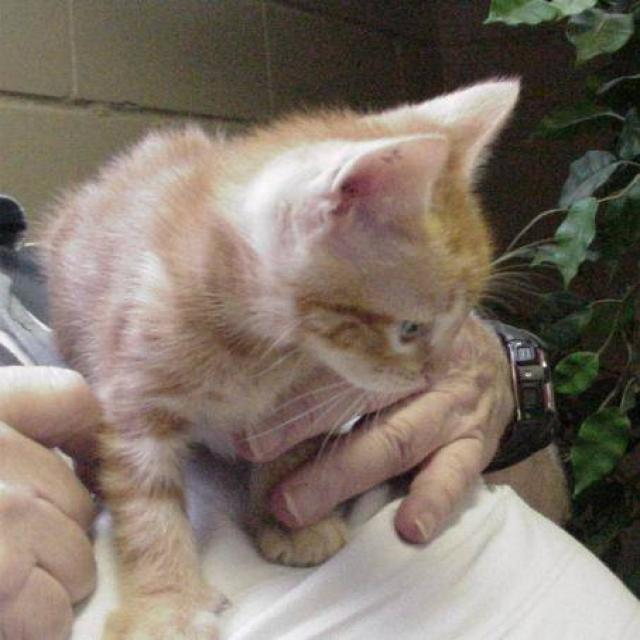cat: (30, 71, 545, 638)
